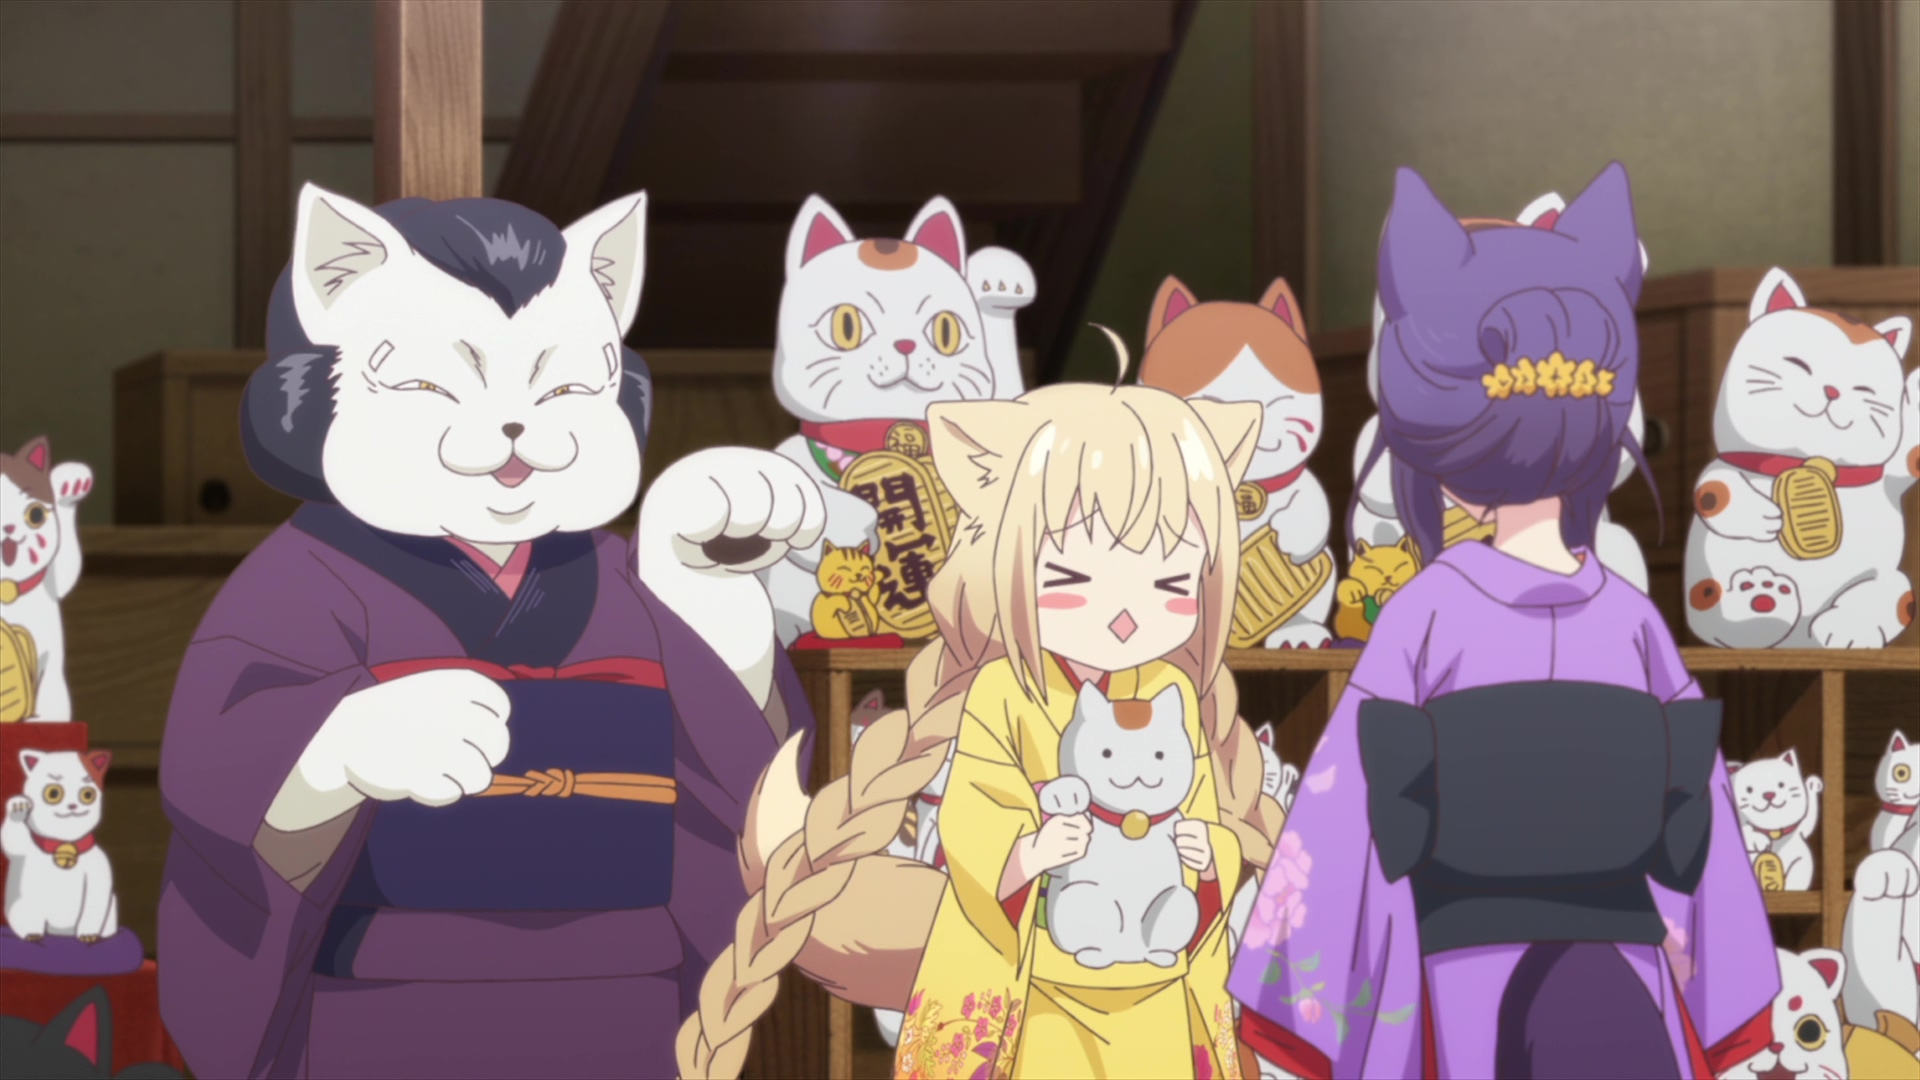其他: (156, 179, 824, 1080)
柚: (675, 319, 1290, 1080)
皋: (1226, 164, 1782, 1080)
